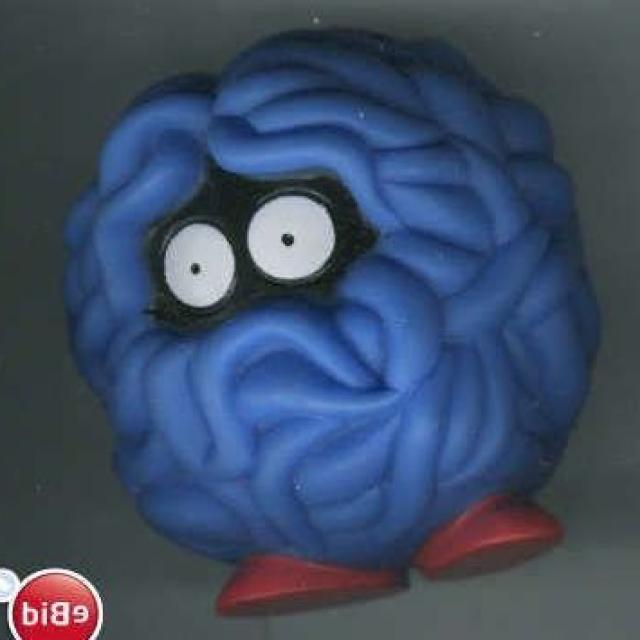Tangela: (74, 14, 595, 610)
